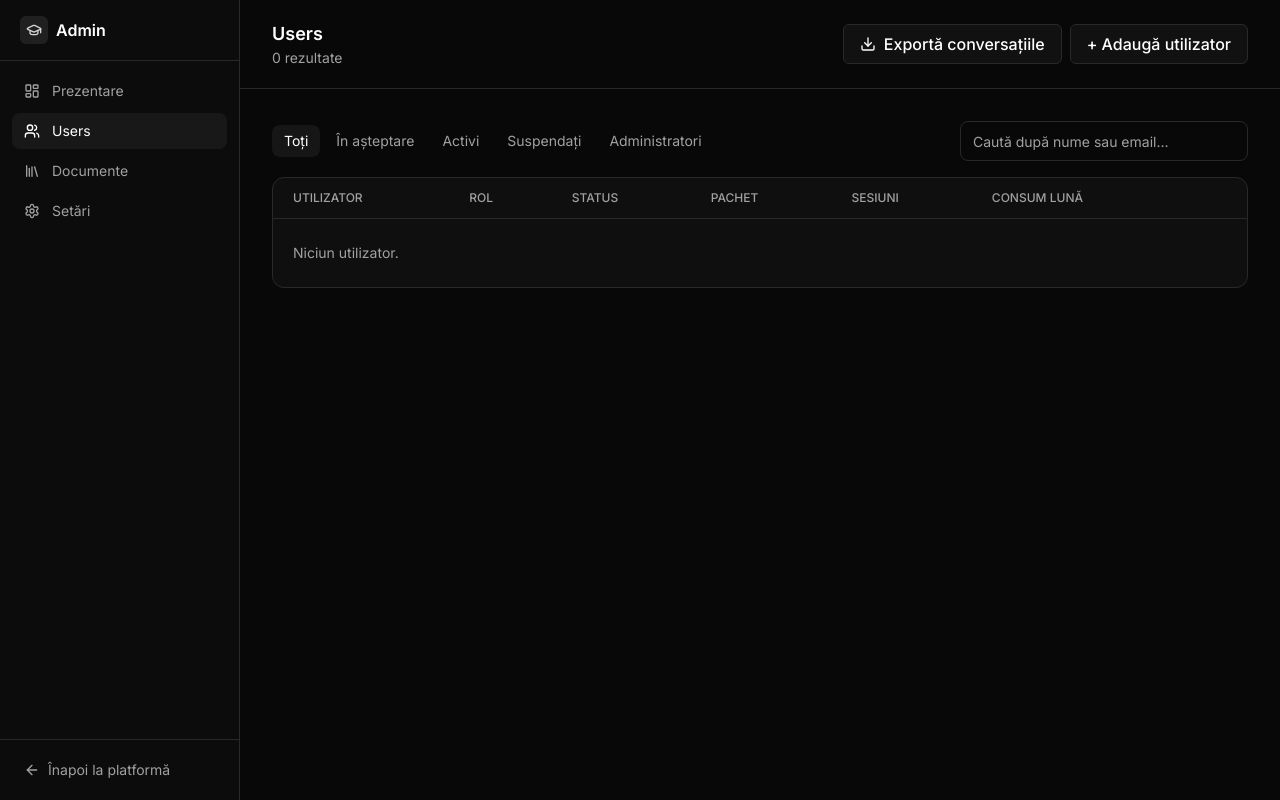
Test case: ADMIN-04 Create a user › ADMIN-04 open (S8): every field and the role are named
Step 1. Click the button "+ Adaugă utilizator" → click(1159, 44), box [1070, 24, 1248, 64]
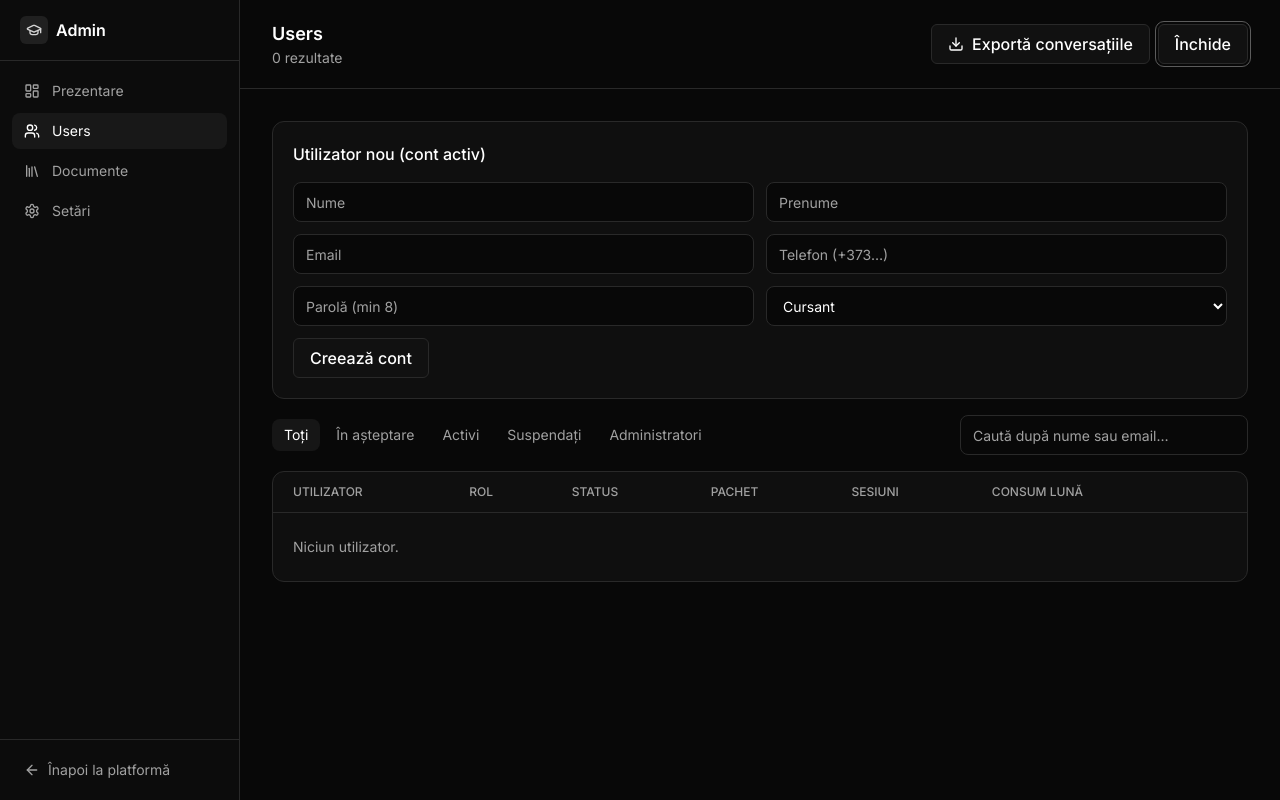
Check: the field labelled "Nume" is shown, box [293, 182, 754, 222]
Check: the field labelled "Prenume" is shown, box [766, 182, 1227, 222]
Check: the field labelled "Email" is shown, box [293, 234, 754, 274]
